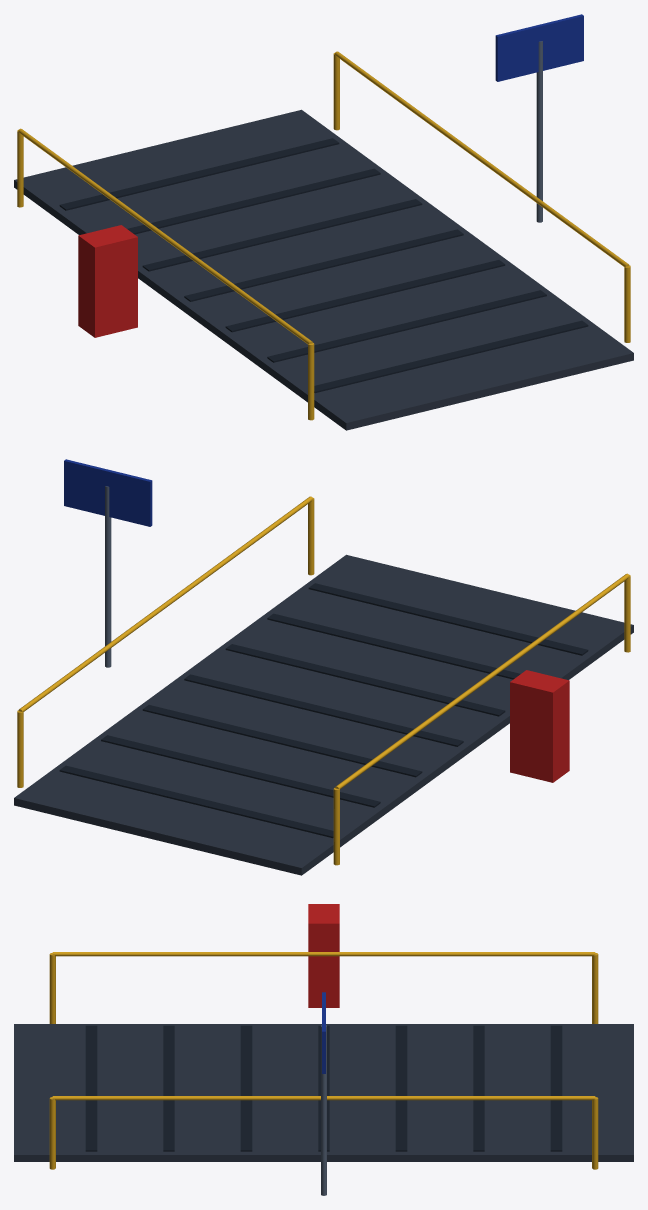
File: yard-tire-inspection-body.baseline.glb
3 renders of one model, top to bottom at view 1: azimuth 30°, elevation 25°; view 2: azimuth 150°, elevation 25°; view 3: azimuth 270°, elevation 25°, orthographic. The views are drawn at different scales.
Parts seen in each view (by area): view 1: Yard-tire-inspection-bodyBody; view 2: Yard-tire-inspection-bodyBody; view 3: Yard-tire-inspection-bodyBody.
Part boxes in pixels (x1,y1,x2,y2): Yard-tire-inspection-bodyBody: (14,14,633,430); Yard-tire-inspection-bodyBody: (14,459,633,875); Yard-tire-inspection-bodyBody: (14,904,633,1195).
Bounding box in the file's own units: 6.9 × 2.6 × 8.
